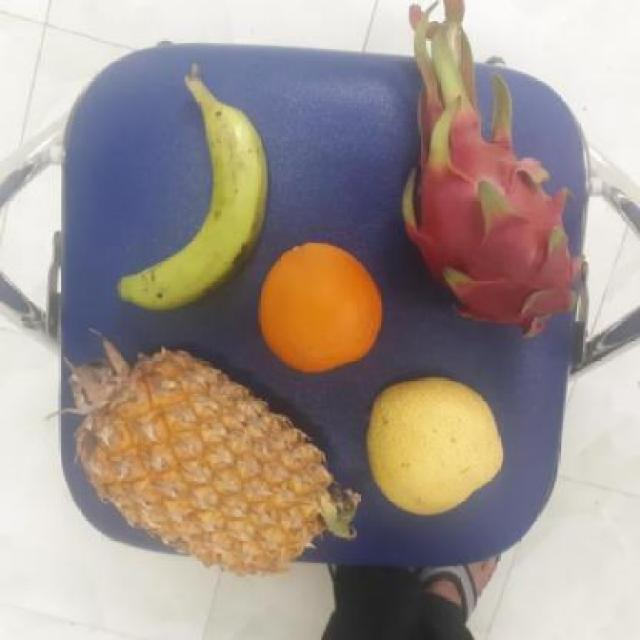banana: (125, 88, 266, 311)
dragon fruit: (387, 72, 585, 338)
oren: (255, 242, 384, 373)
pear: (357, 378, 509, 516)
pineapple: (55, 349, 343, 580)
